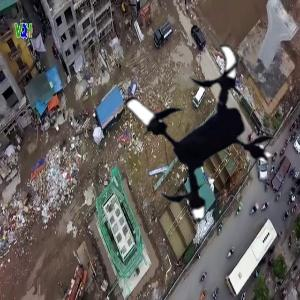drone: (107, 37, 289, 219)
